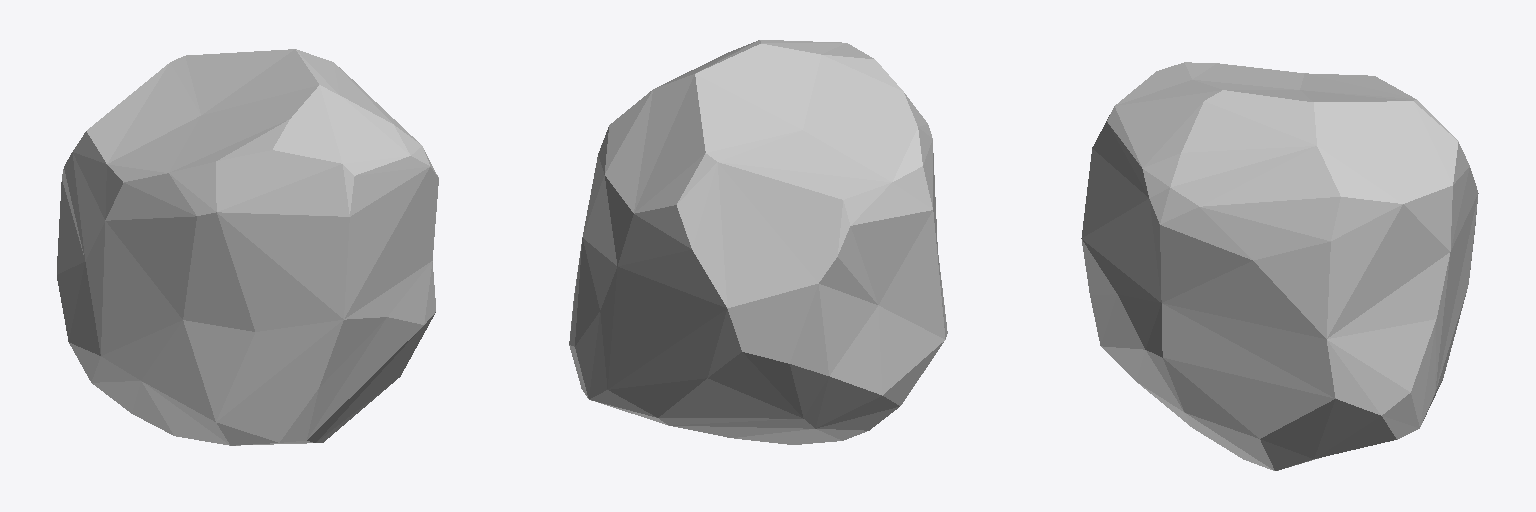
File: Rock.obj
3 views of the same model, side by side, from view 1: azimuth 30°, elevation 25°; view 2: azimuth 150°, elevation 25°; view 3: azimuth 270°, elevation 25° (orthographic).
Visible parts, largest first — view 1: Cube_Cube.001; view 2: Cube_Cube.001; view 3: Cube_Cube.001.
Part boxes in pixels (bbox=[...]): Cube_Cube.001: bbox=[57, 49, 438, 445]; Cube_Cube.001: bbox=[569, 40, 947, 444]; Cube_Cube.001: bbox=[1081, 62, 1478, 470].
Size of the model in its own units: 2.21 by 2.33 by 2.28.